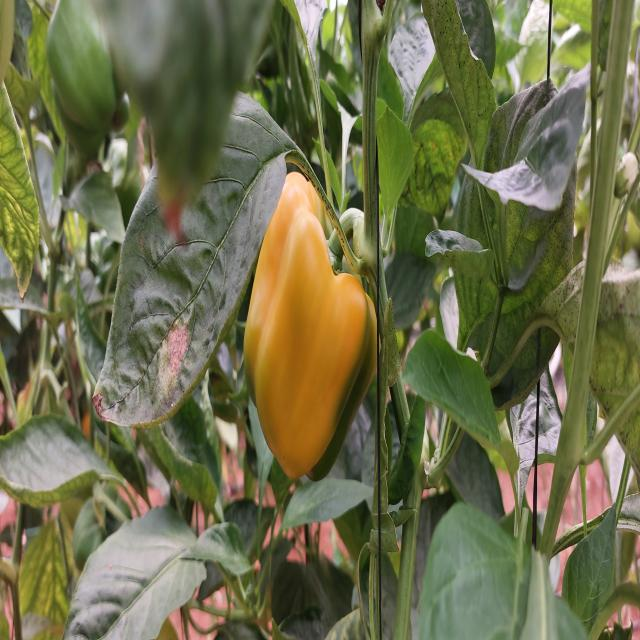GreenishYellow--Can-be-Harvested: (228, 142, 396, 494)
